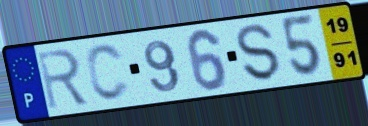5: (278, 12, 324, 81)
6: (185, 26, 228, 93)
9: (141, 38, 181, 94)
C: (84, 42, 133, 104)
R: (34, 46, 91, 112)
S: (234, 22, 283, 83)
